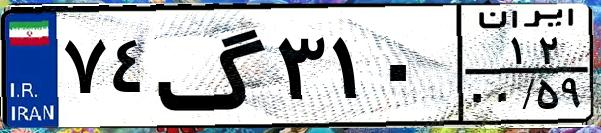0: (385, 28, 445, 110), (470, 70, 495, 125), (495, 70, 520, 125)
1: (330, 28, 385, 110), (508, 27, 537, 80)
2: (537, 27, 568, 80)
3: (270, 28, 330, 110)
4: (110, 28, 156, 98)
5: (535, 70, 560, 125)
7: (57, 26, 110, 100)
9: (560, 70, 590, 125)
گ: (156, 12, 270, 120)
